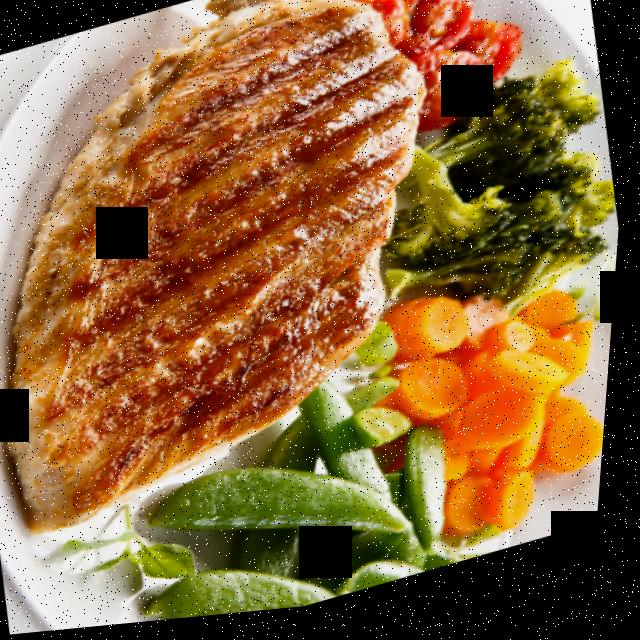Frango: (0, 0, 504, 549)
